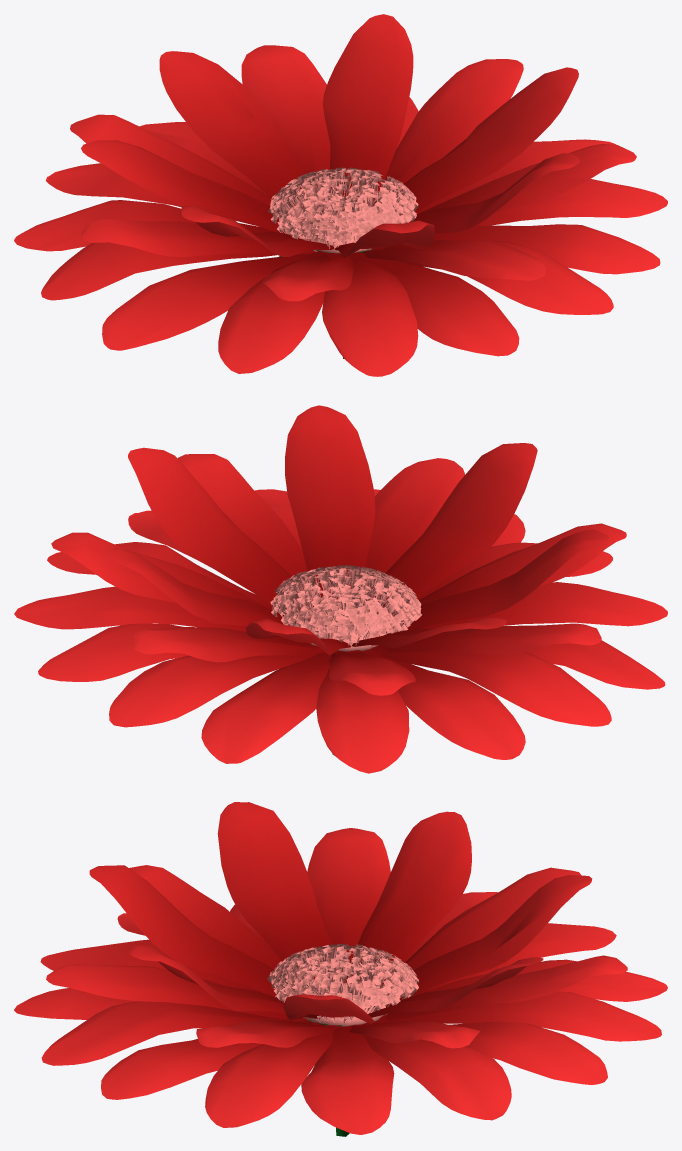
3 views of the same model, one above another, from view 1: azimuth 30°, elevation 25°; view 2: azimuth 150°, elevation 25°; view 3: azimuth 270°, elevation 25° (orthographic).
Visible parts, largest first — view 1: flover.033; view 2: flover.033; view 3: flover.033.
Boxes of the visible parts, x1=… form: flover.033: x1=14, y1=14, x2=667, y2=376; flover.033: x1=14, y1=405, x2=667, y2=773; flover.033: x1=14, y1=802, x2=667, y2=1136.
Size of the model in its own units: 0.5 by 0.2036 by 0.4998.
Materials: 3 (1 with a texture image).
